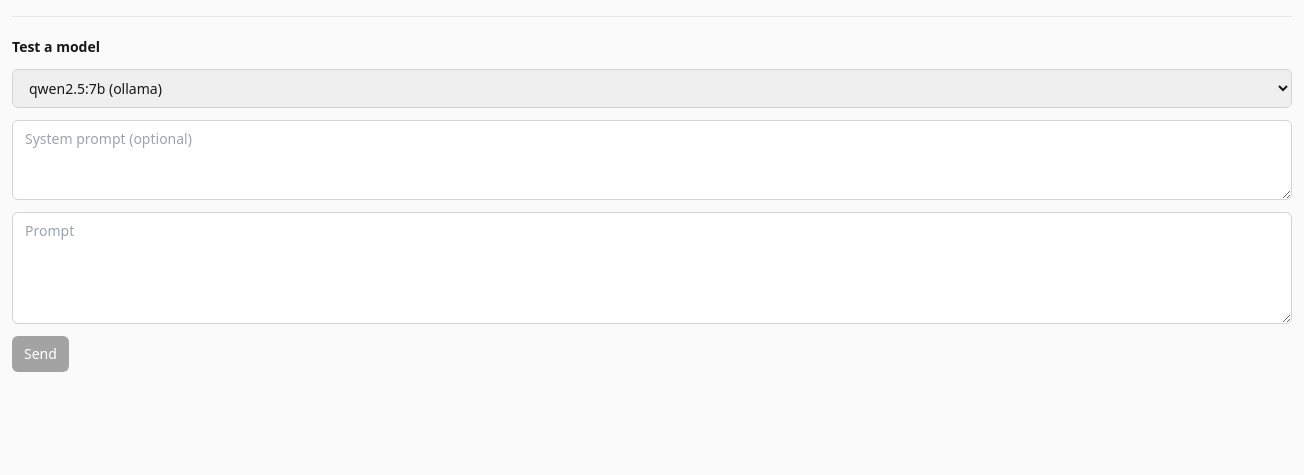
Test case: ModelTester › sends a prompt and displays response, tokens, cost, and duration
Type "Say hello" into the text box named "Test prompt".
click(652, 268); type("Say hello")  # box [12, 212, 1292, 324]
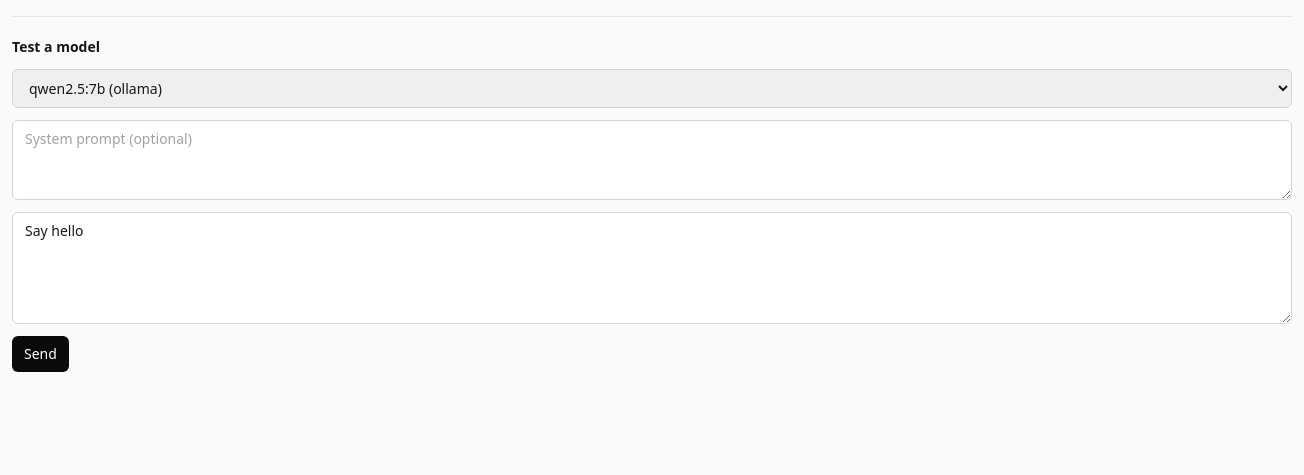
Click the button "Send".
click(40, 354)  # box [12, 336, 69, 372]
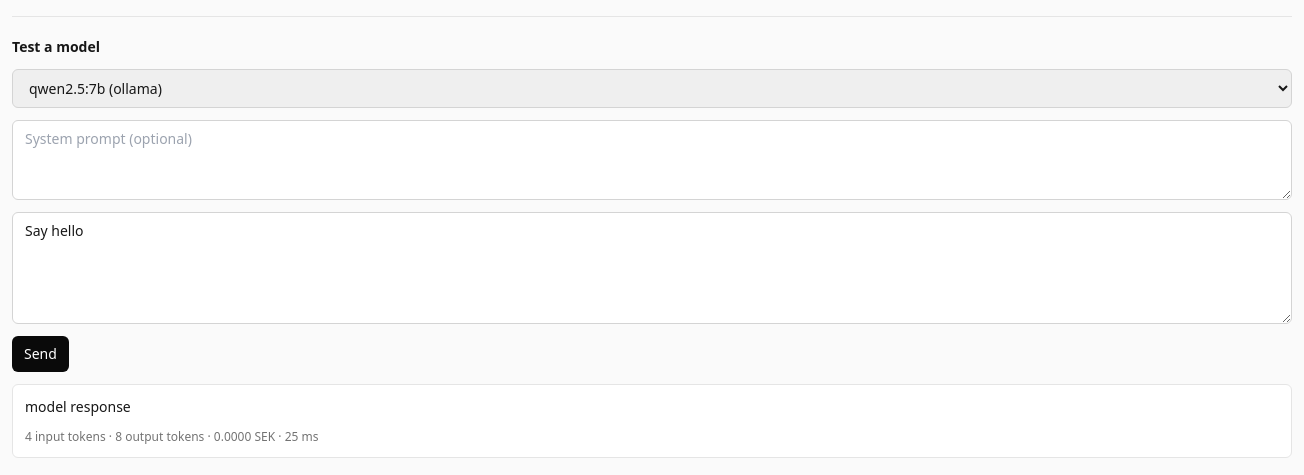
Expected: the text "model response" is shown, [25, 397, 131, 416]
Expected: the text "4 input tokens · 8 output tokens · 0.0000 SEK · 25 ms" is shown, [25, 428, 318, 445]
